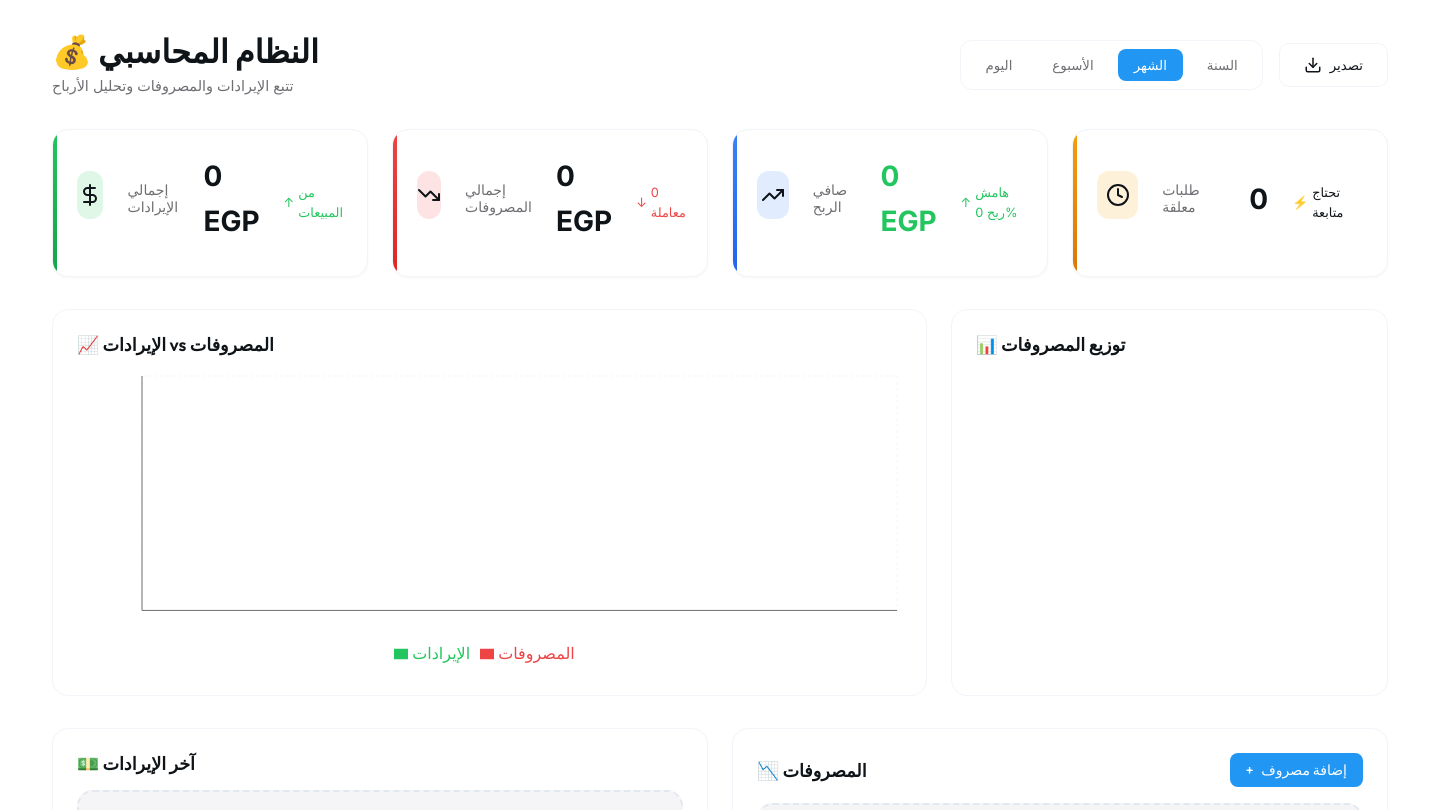
Test: Accounting Page › should open add expense modal
The image size is (1440, 810).
Expected: the heading "💰 النظام المحاسبي" is shown, [52,32,319,70]
Click the button "+ إضافة مصروف".
click(1296, 770)  # box [1230,753,1363,787]
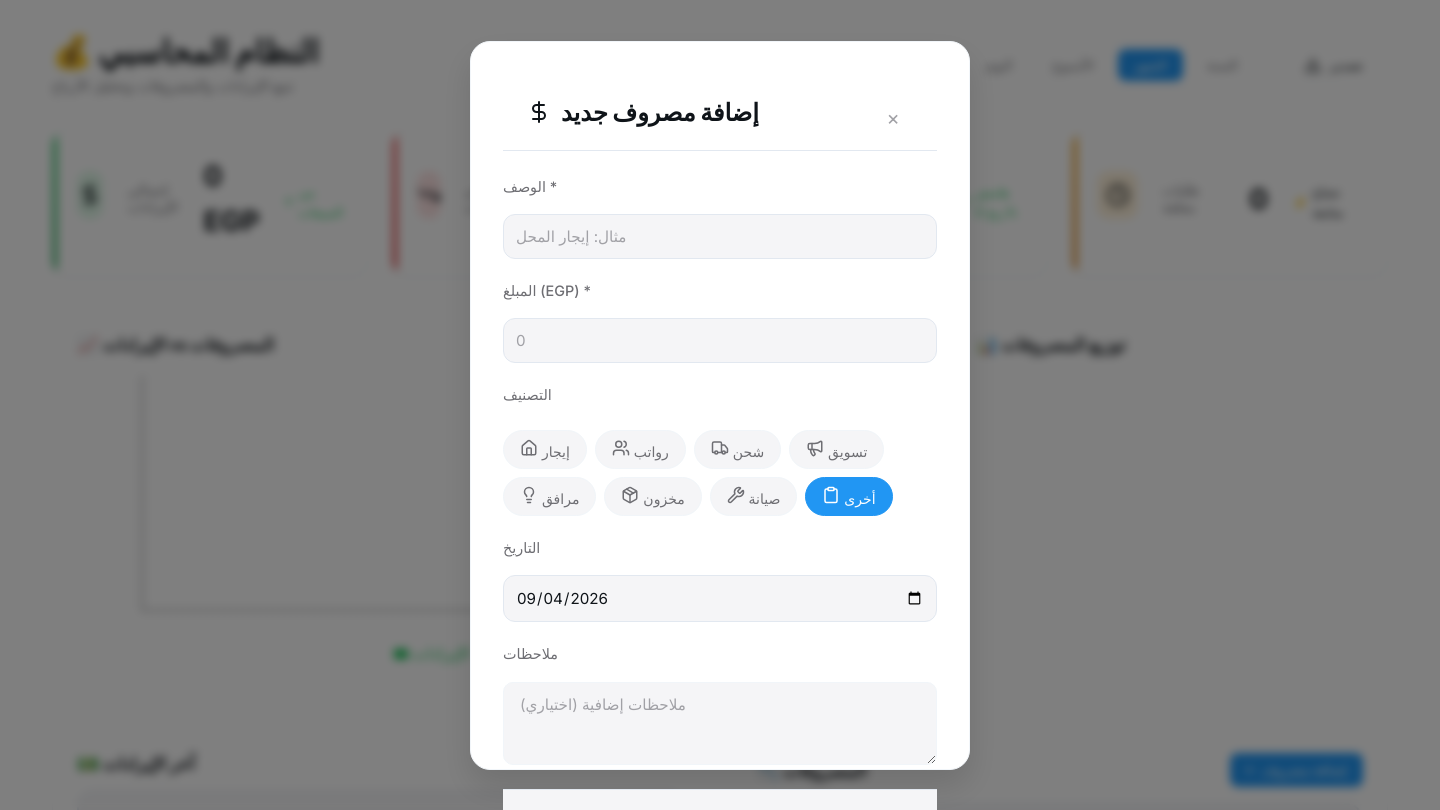
Expected: the heading "إضافة مصروف جديد" is shown, [527,98,759,126]
